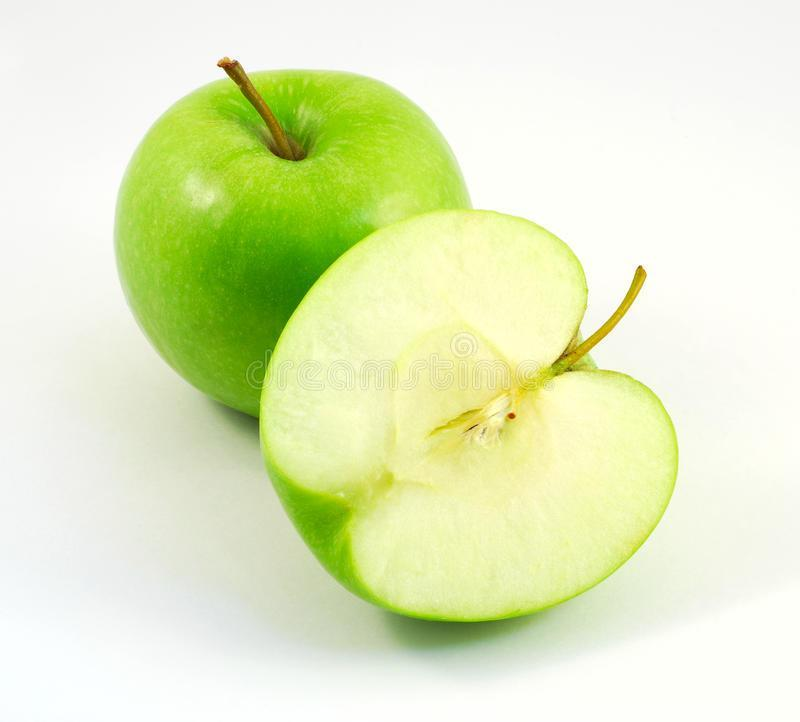apple: (265, 225, 664, 621), (108, 60, 472, 421)
